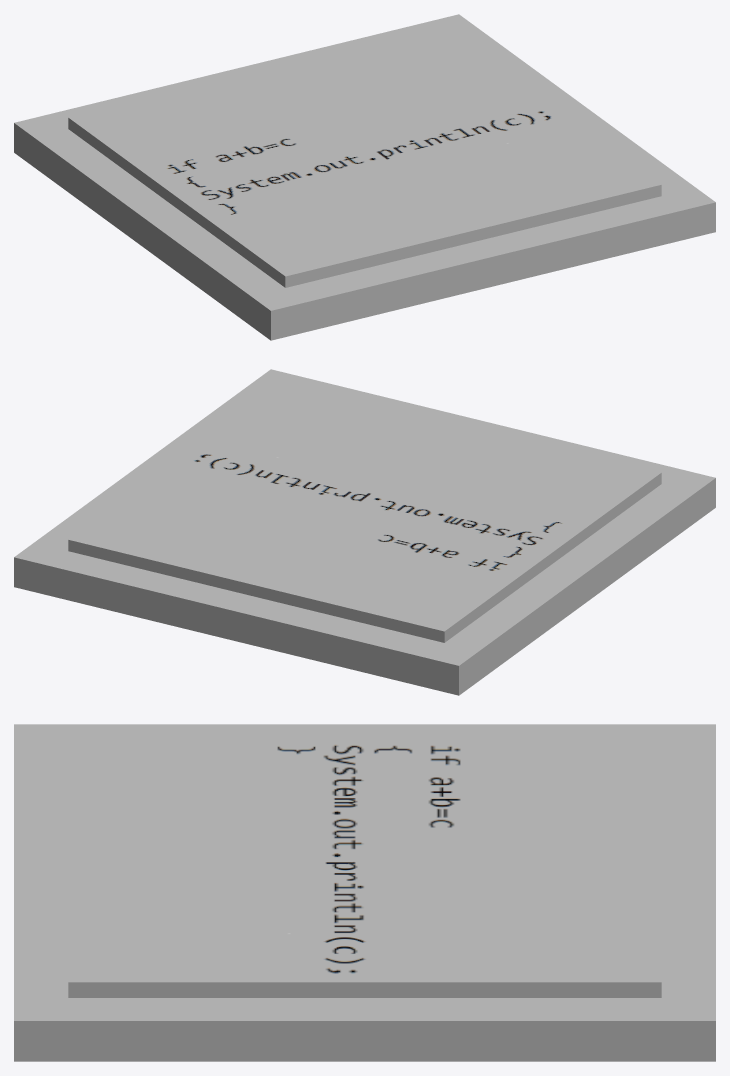
Rendered from lvl2-tile2.fbx.
The picture shows the model from 3 angles, top to bottom: view 1: azimuth 30°, elevation 25°; view 2: azimuth 150°, elevation 25°; view 3: azimuth 270°, elevation 25°; orthographic projection. The views are drawn at different scales.
Parts seen in each view (by area): view 1: Cube; view 2: Cube; view 3: Cube.
Boxes of the visible parts, x1,y1,x2,y2 form: Cube: (14,14,715,340); Cube: (14,369,715,695); Cube: (14,724,715,1061).
Size of the model in its own units: 200 by 17.74 by 200.
